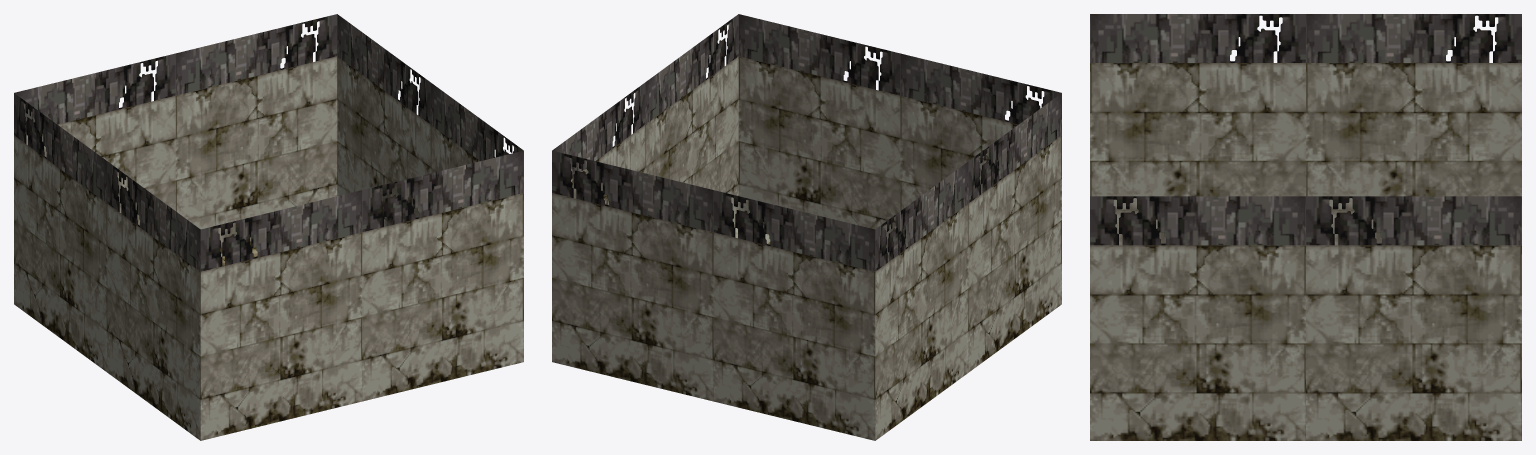
Rendered from MAP035.obj.
3 renders of one model, left to right at view 1: azimuth 30°, elevation 25°; view 2: azimuth 150°, elevation 25°; view 3: azimuth 270°, elevation 25°, orthographic. The views are drawn at different scales.
Visible parts, largest first — view 1: mesh_4, mesh_3; view 2: mesh_4, mesh_3; view 3: mesh_4, mesh_3.
Boxes of the visible parts, <box> form: mesh_4: <box>14,56,523,440</box>; mesh_3: <box>14,14,523,271</box>; mesh_4: <box>552,56,1061,440</box>; mesh_3: <box>552,14,1061,271</box>; mesh_4: <box>1090,63,1521,440</box>; mesh_3: <box>1090,14,1521,245</box>.
Bounding box in the file's own units: 102 × 64 × 102.
Materials: 5 (5 with a texture image).
